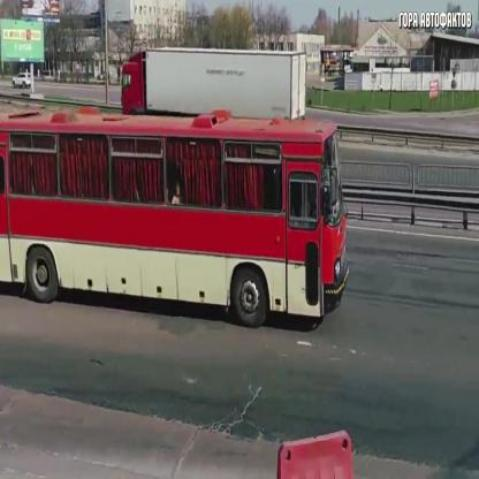bus: (1, 110, 351, 328)
car: (11, 69, 39, 90)
truck: (118, 47, 309, 123)
